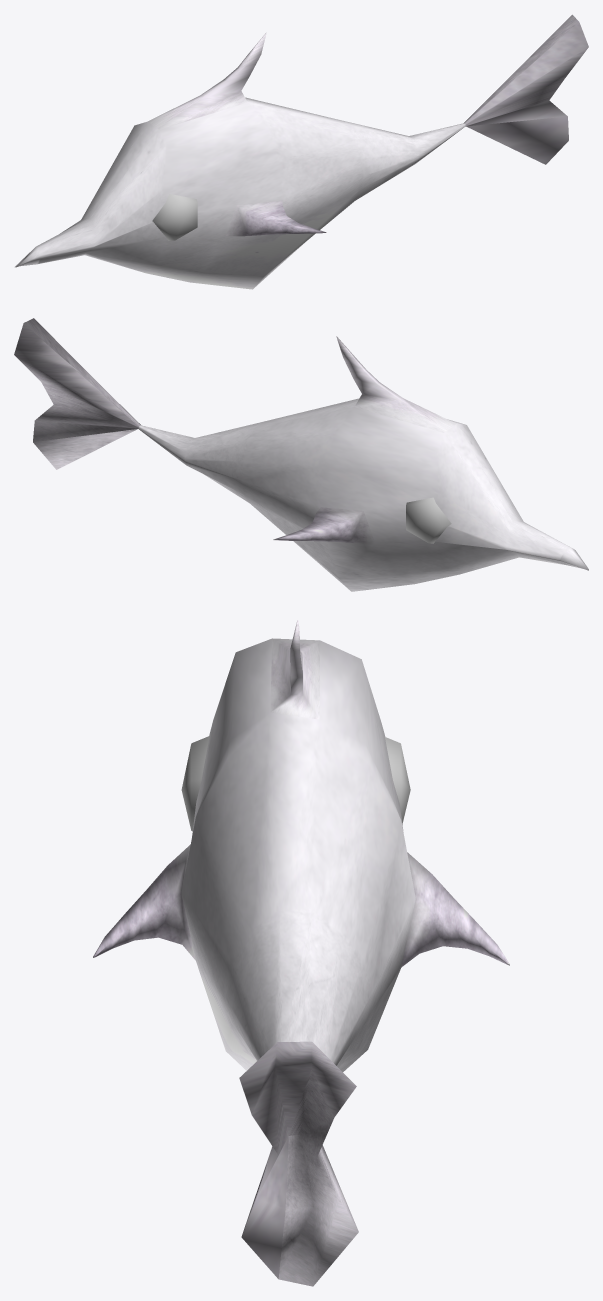
Rendered from modeling_fish1_20130320_v1.fbx.
3 renders of one model, top to bottom at view 1: azimuth 30°, elevation 25°; view 2: azimuth 150°, elevation 25°; view 3: azimuth 270°, elevation 25°, orthographic. The views are drawn at different scales.
Visible parts, largest first — view 1: body, eye1; view 2: body, eye2; view 3: body, eye1, eye2.
Part boxes in pixels (x1,y1,x2,y2): body: (14,14,588,289); eye1: (152,194,197,240); body: (14,318,588,591); eye2: (406,497,451,543); body: (93,620,509,1286); eye1: (181,736,209,831); eye2: (385,737,410,823).
Bounding box in the file's own units: 5.87 × 2.46 × 1.89.
